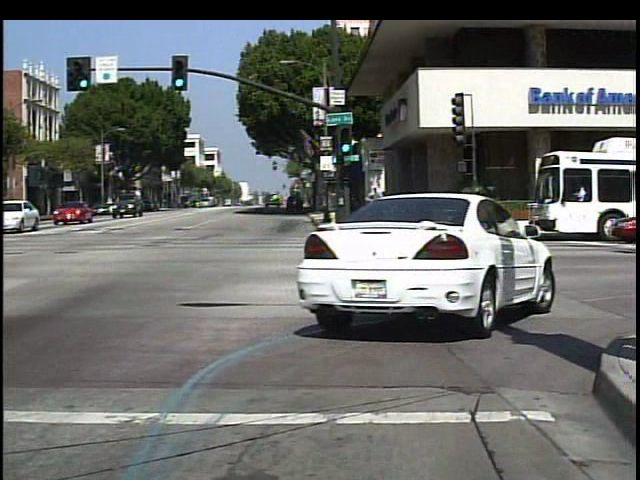person: (368, 182, 388, 222)
